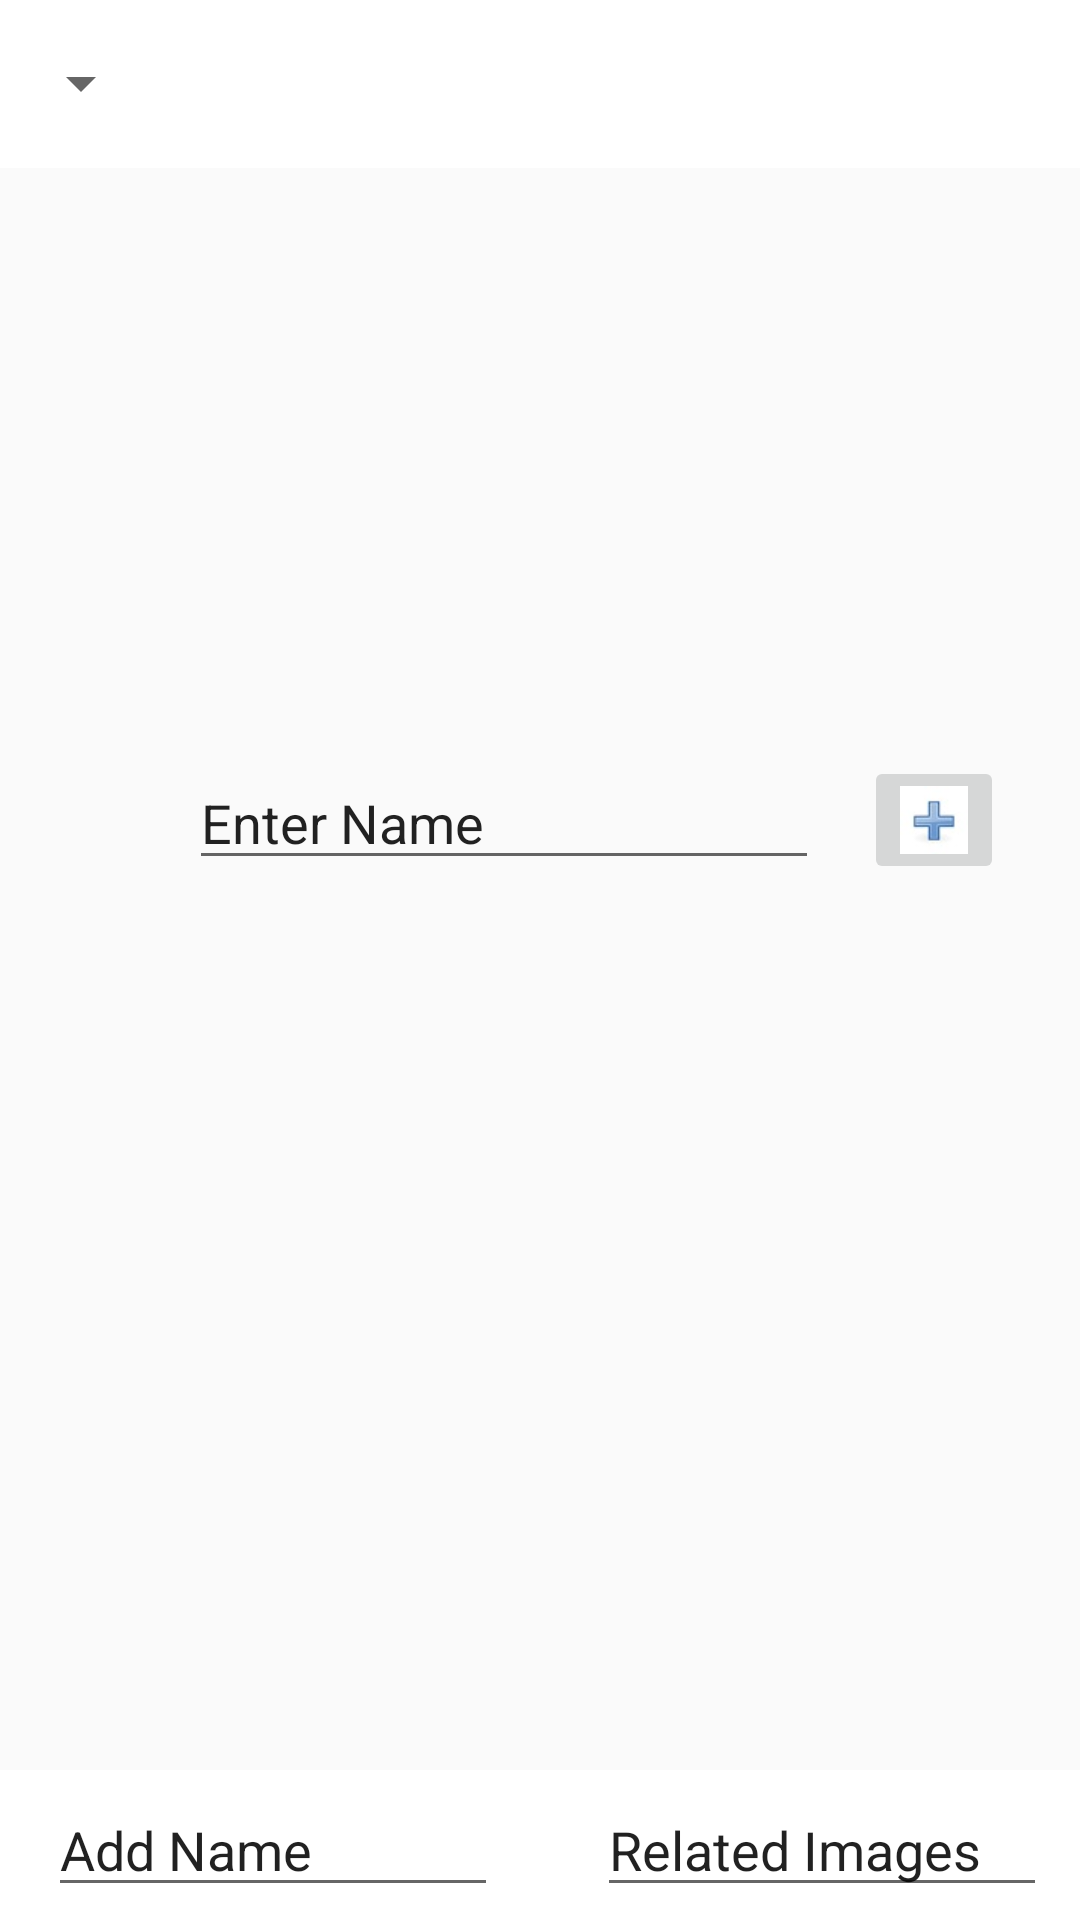

Icon click points for this 1080px x 1920px phone screenshot, format [x,y]:
plus: [934,820]
